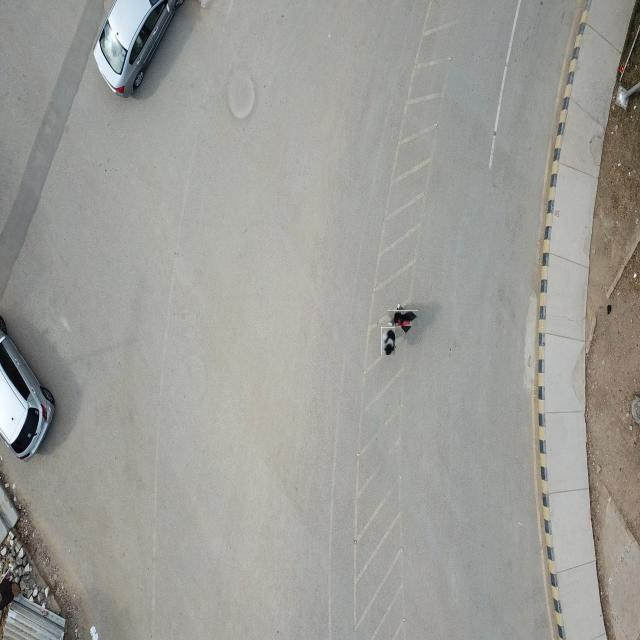Manusia: (391, 307, 416, 331), (381, 327, 396, 356)
